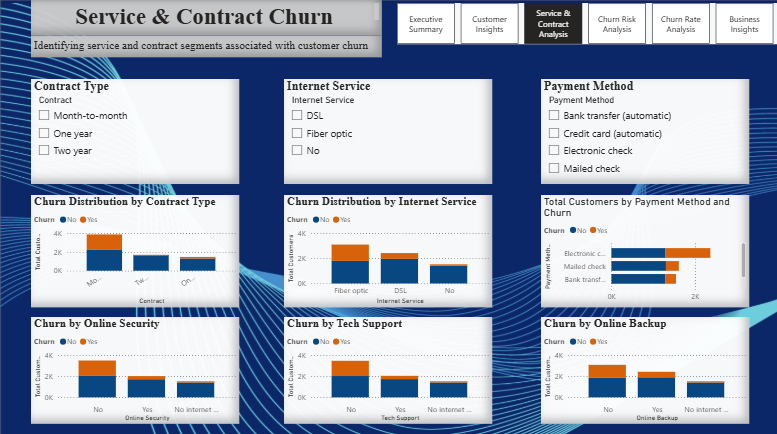

This screenshot's page, from the dashboard's own definition file:
{"tool":"powerbi","page":{"name":"Service & Contract Analysis","canvas":[1280,720],"ordinal":2},"visuals":[{"type":"textbox","box":[51.1,0,578.2,59.3],"z":0},{"type":"textbox","box":[51.1,59.3,578.2,34.6],"z":1000},{"type":"slicer","title":"Contract Type","fields":{"Values":["Customer_Churn.Contract"]},"box":[50.4,129.3,342.7,173],"z":2000},{"type":"slicer","title":"Internet Service","fields":{"Values":["Customer_Churn.Internet Service"]},"box":[468.7,129.3,342.7,173],"z":3000},{"type":"slicer","title":"Payment Method","fields":{"Values":["Customer_Churn.Payment Method"]},"box":[892,129.3,342.7,173],"z":4000},{"type":"columnChart","title":"Churn Distribution by Contract Type","fields":{"Category":["Customer_Churn.Contract"],"Y":["Customer_Churn.Total Customers"],"Series":["Customer_Churn.Churn"]},"box":[50.4,320.8,342.7,184.8],"z":5000},{"type":"columnChart","title":"Churn Distribution by Internet Service","fields":{"Category":["Customer_Churn.Internet Service"],"Y":["Customer_Churn.Total Customers"],"Series":["Customer_Churn.Churn"]},"box":[468.7,320.8,342.7,184.8],"z":6000},{"type":"barChart","fields":{"Category":["Customer_Churn.Payment Method"],"Y":["Customer_Churn.Total Customers"],"Series":["Customer_Churn.Churn"]},"box":[892,320.8,342.7,184.8],"z":7000},{"type":"columnChart","title":"Churn by Online Security","fields":{"Category":["Customer_Churn.Online Security"],"Y":["Customer_Churn.Total Customers"],"Series":["Customer_Churn.Churn"]},"box":[50.4,522.4,342.7,176.4],"z":8000},{"type":"columnChart","title":"Churn by Tech Support","fields":{"Category":["Customer_Churn.Tech Support"],"Y":["Customer_Churn.Total Customers"],"Series":["Customer_Churn.Churn"]},"box":[468.7,522.4,342.7,176.4],"z":9000},{"type":"columnChart","title":"Churn by Online Backup","fields":{"Category":["Customer_Churn.Online Backup"],"Y":["Customer_Churn.Total Customers"],"Series":["Customer_Churn.Churn"]},"box":[892,522.4,342.7,176.4],"z":10000},{"type":"pageNavigator","box":[654,4.9,626,67.5],"z":11000}]}

Visuals, with their boxes in screenshot pixels (x1, y1, x2, y2), scaled from the page's 1280x720 canvas onto the 777x434 screenshot:
textbox: box(31, 0, 382, 36)
textbox: box(31, 36, 382, 57)
"Contract Type" slicer: box(31, 78, 239, 182)
"Internet Service" slicer: box(285, 78, 493, 182)
"Payment Method" slicer: box(541, 78, 750, 182)
"Churn Distribution by Contract Type" columnChart: box(31, 193, 239, 305)
"Churn Distribution by Internet Service" columnChart: box(285, 193, 493, 305)
barChart - Customer_Churn.Payment Method x Customer_Churn.Total Customers: box(541, 193, 750, 305)
"Churn by Online Security" columnChart: box(31, 315, 239, 421)
"Churn by Tech Support" columnChart: box(285, 315, 493, 421)
"Churn by Online Backup" columnChart: box(541, 315, 750, 421)
pageNavigator: box(397, 3, 776, 44)
